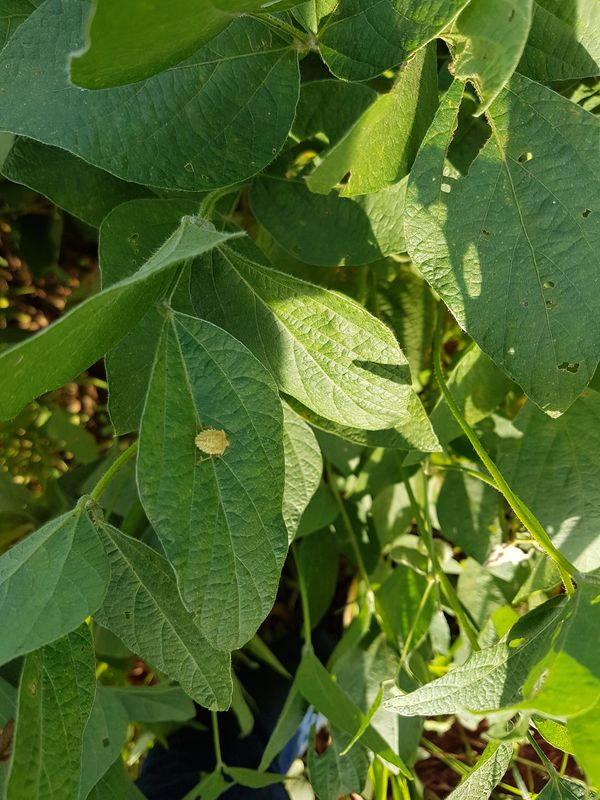Euschistus_heros_ninfa: (184, 418, 235, 468)
